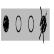correct: (3, 14, 9, 36)
not correct: (39, 6, 47, 44)
